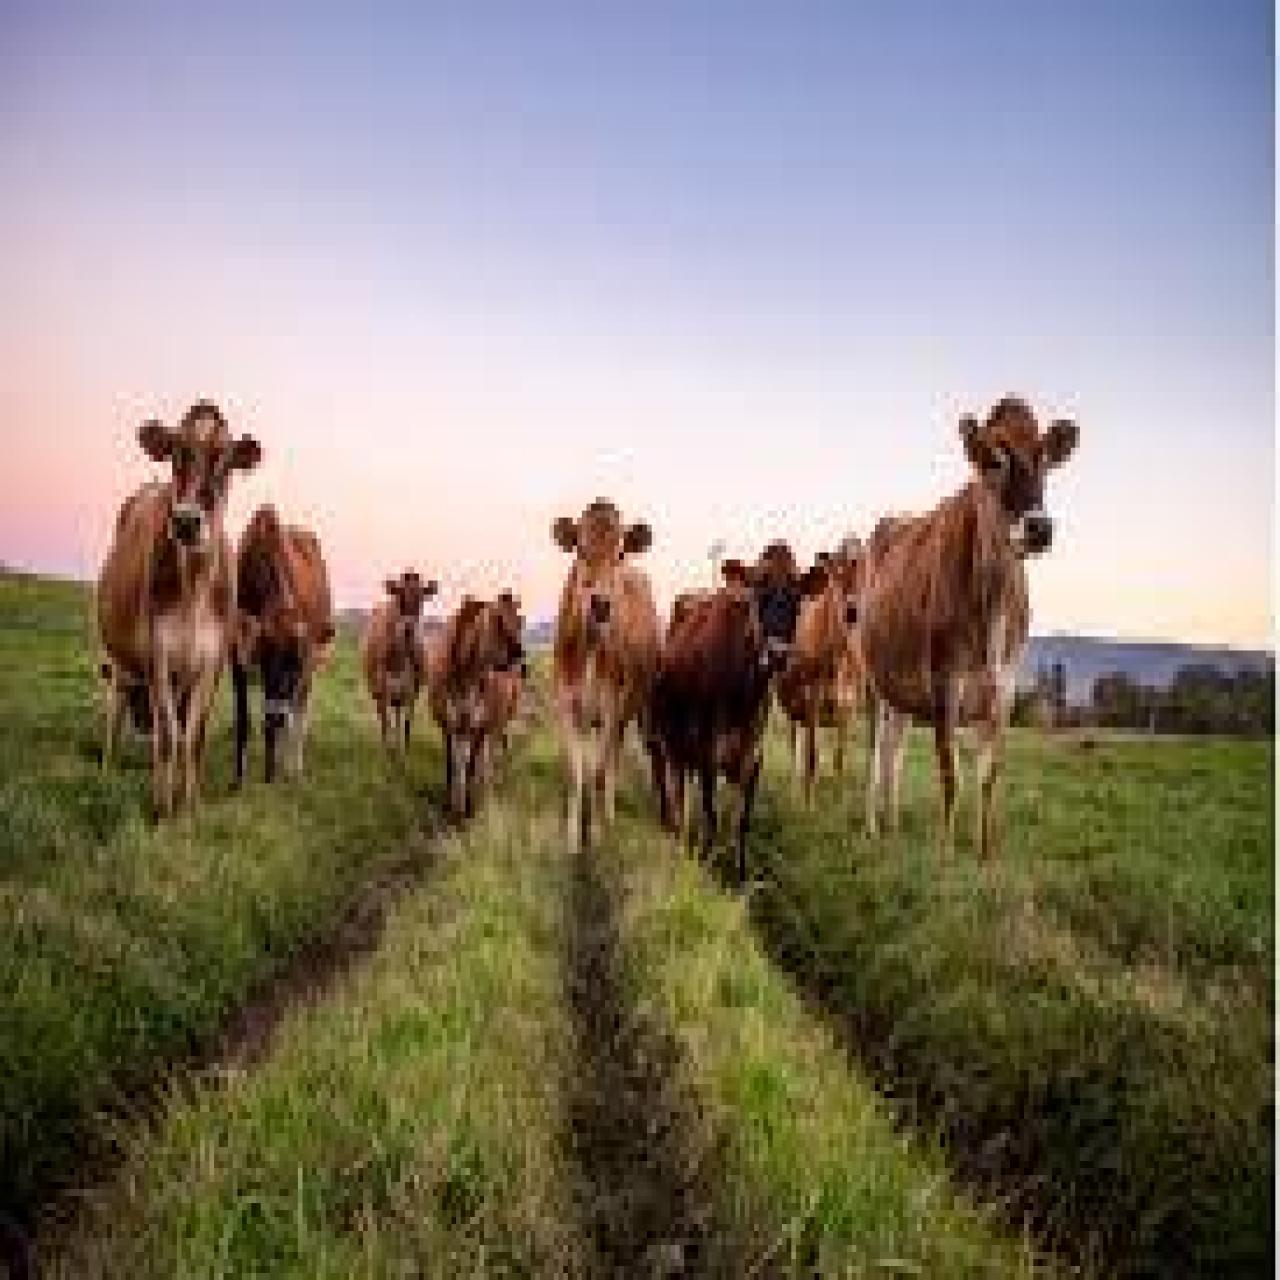cow: (859, 392, 1082, 867), (100, 406, 258, 811), (663, 546, 826, 881), (550, 501, 661, 864), (233, 511, 331, 790), (777, 542, 866, 787), (433, 594, 526, 811), (368, 563, 433, 745)
